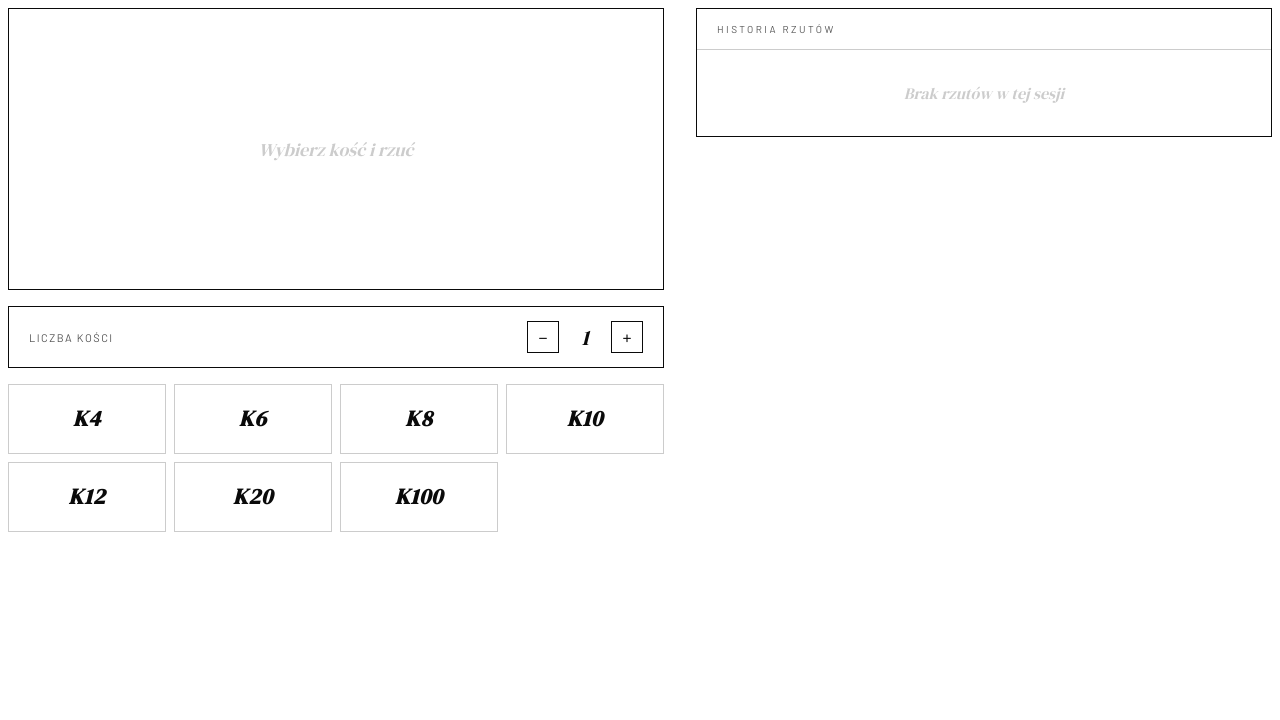
Test: DiceRoller › kliknięcie + zwiększa licznik do 2
Click the button with test id "dice-count-plus".
click(627, 337)  # box [611,321,643,353]
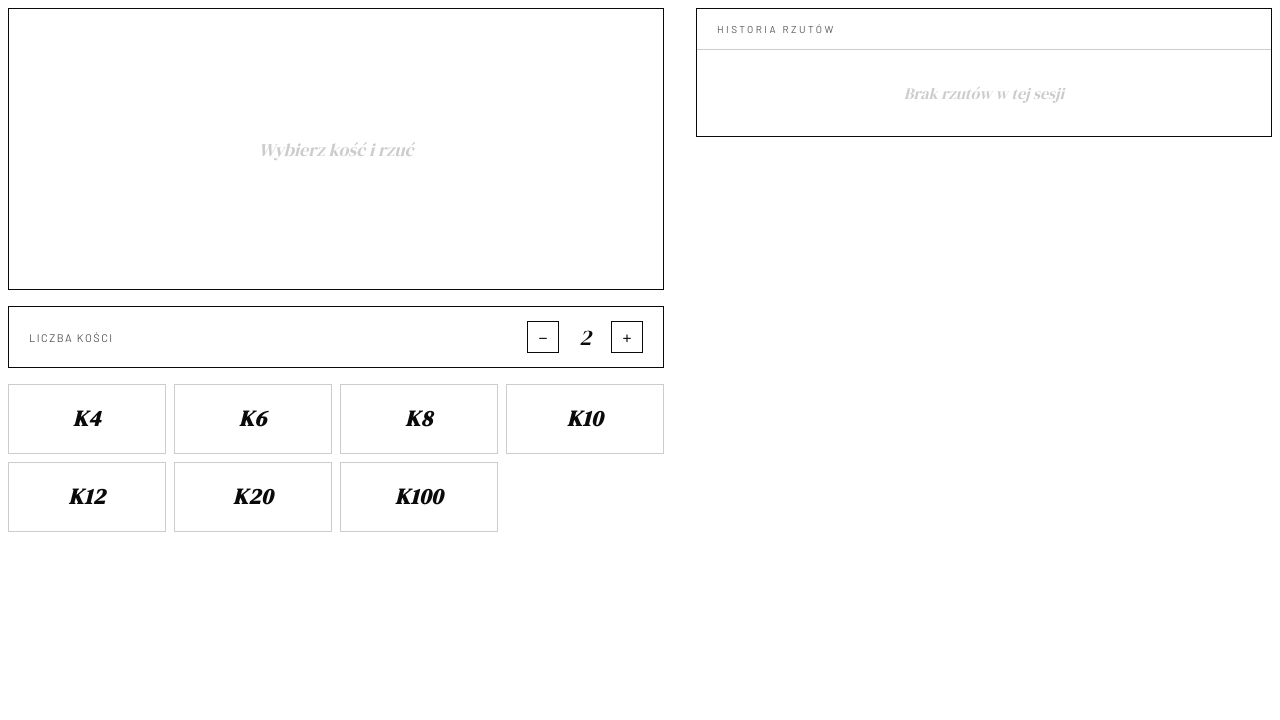
Expected: the text with test id "dice-count" reads "2", [579,322,591,352]
